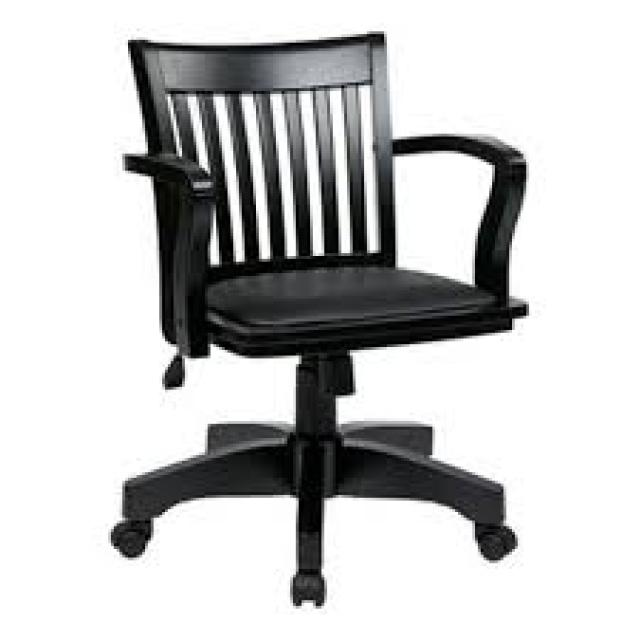obstacle: (99, 23, 540, 617)
